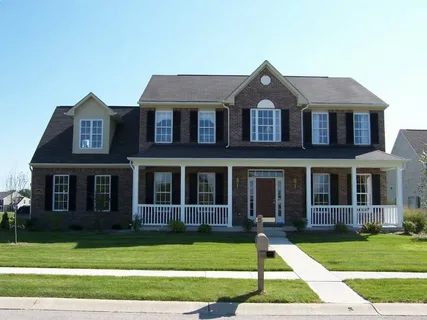private_hause: (46, 71, 409, 233)
